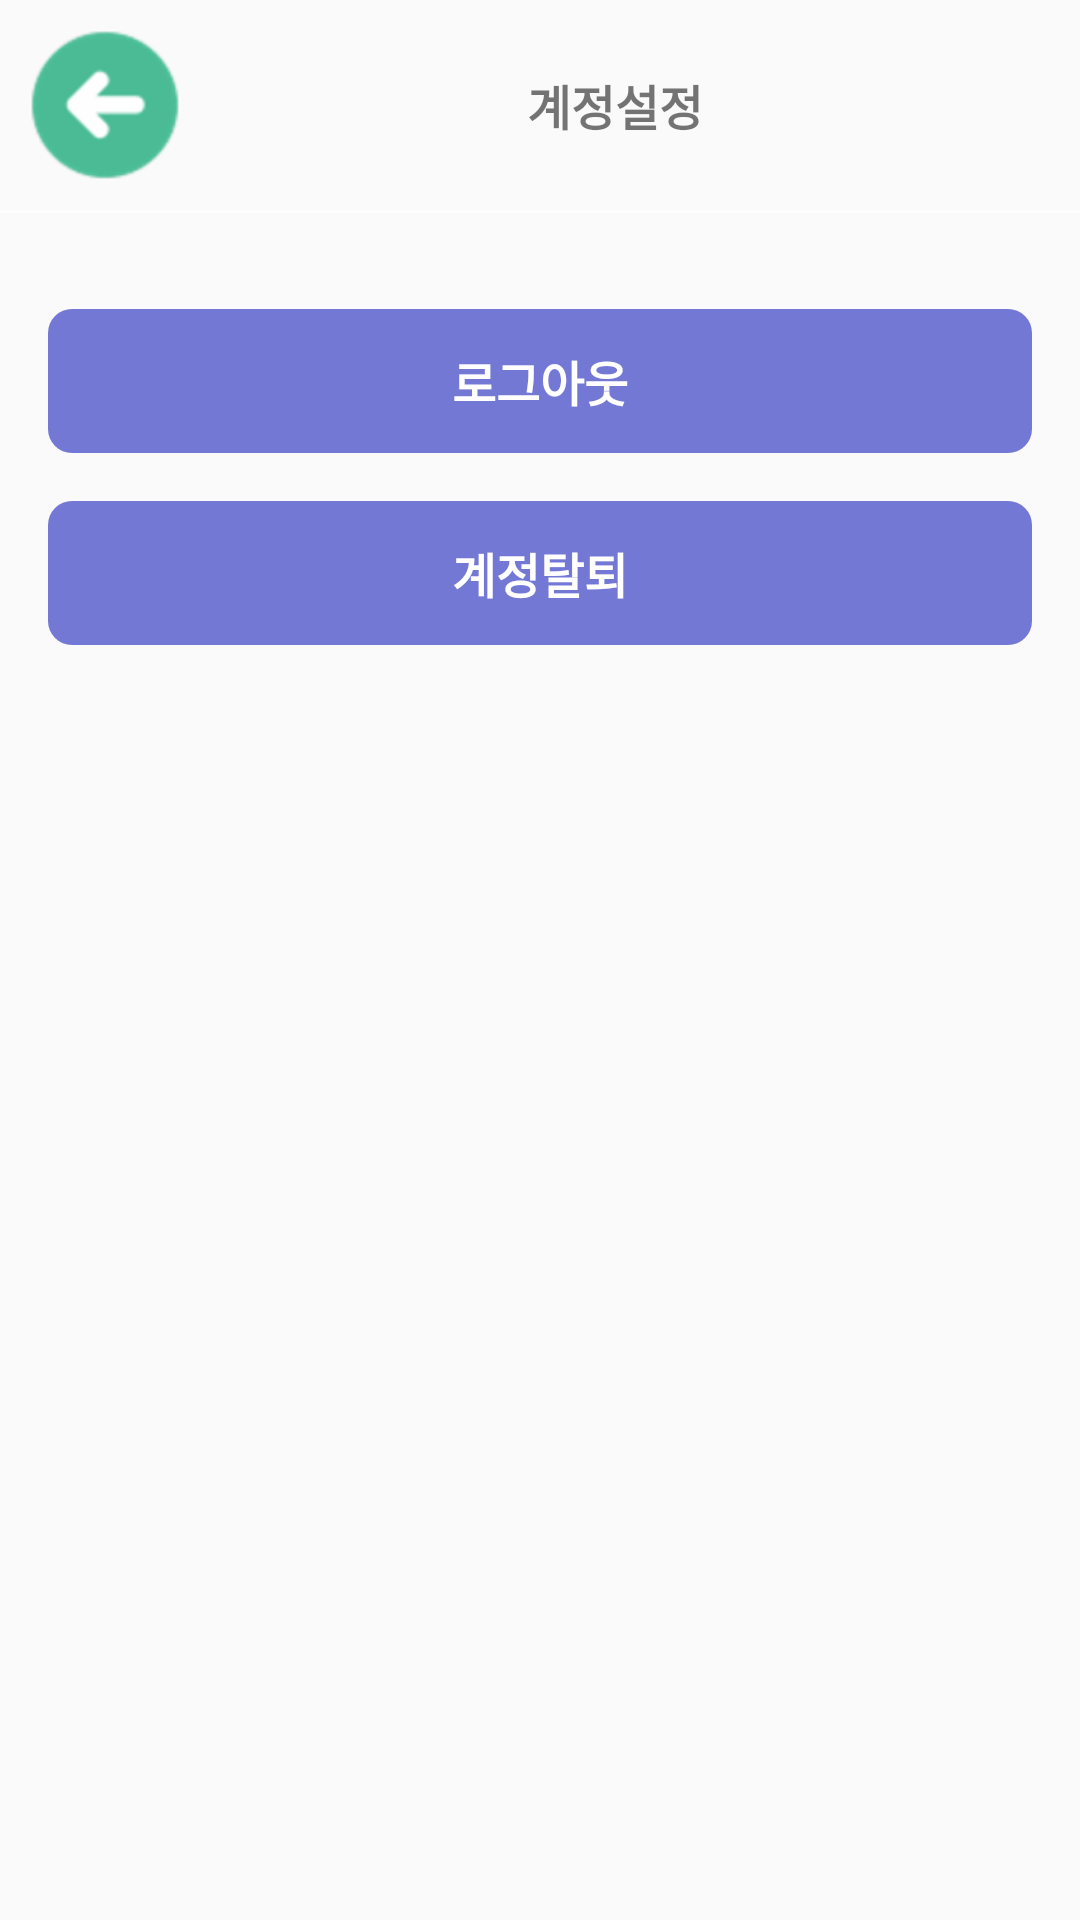

Screen size 1080×1920. Icon name, then its center in pixels as [x,y]:
back arrow: [105,105]
